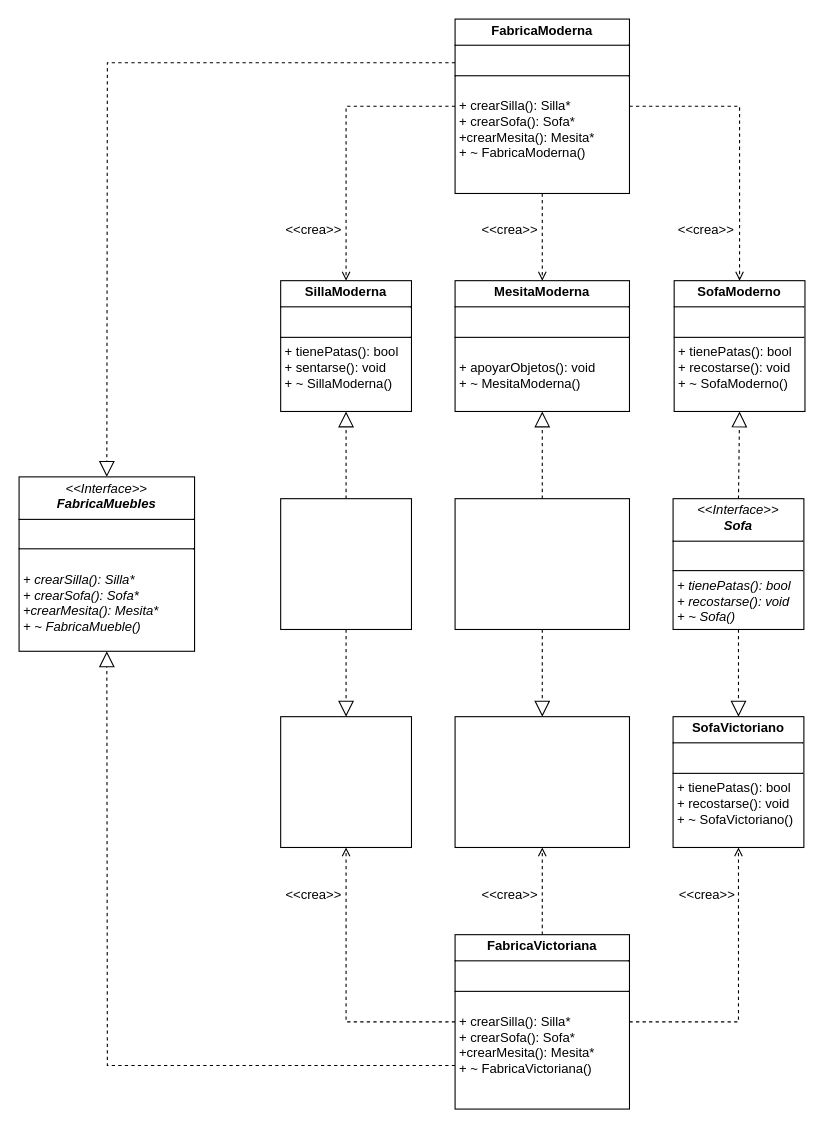
This 824x1128 diagram has some shape labels left out. The shapes that lost their labels are listed below. From the top down, each one's centre as x and y in pixels, then its label:
At point (345, 563): "<<Interface>> Silla + tienePatas(): bool + sentarse(): void + ~ Silla()".
At point (541, 563): "<<Interface>> Mesita + apoyarObjetos(): void + ~ Mesita()".
At point (345, 781): "SillaVictoriana + tienePatas(): bool + sentarse(): void + ~ SillaVictoriana()".
At point (541, 781): "MesitaVictoriana + apoyarObjetos(): void + ~ MesitaModerna()".
